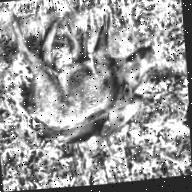boar: (10, 0, 160, 137)
